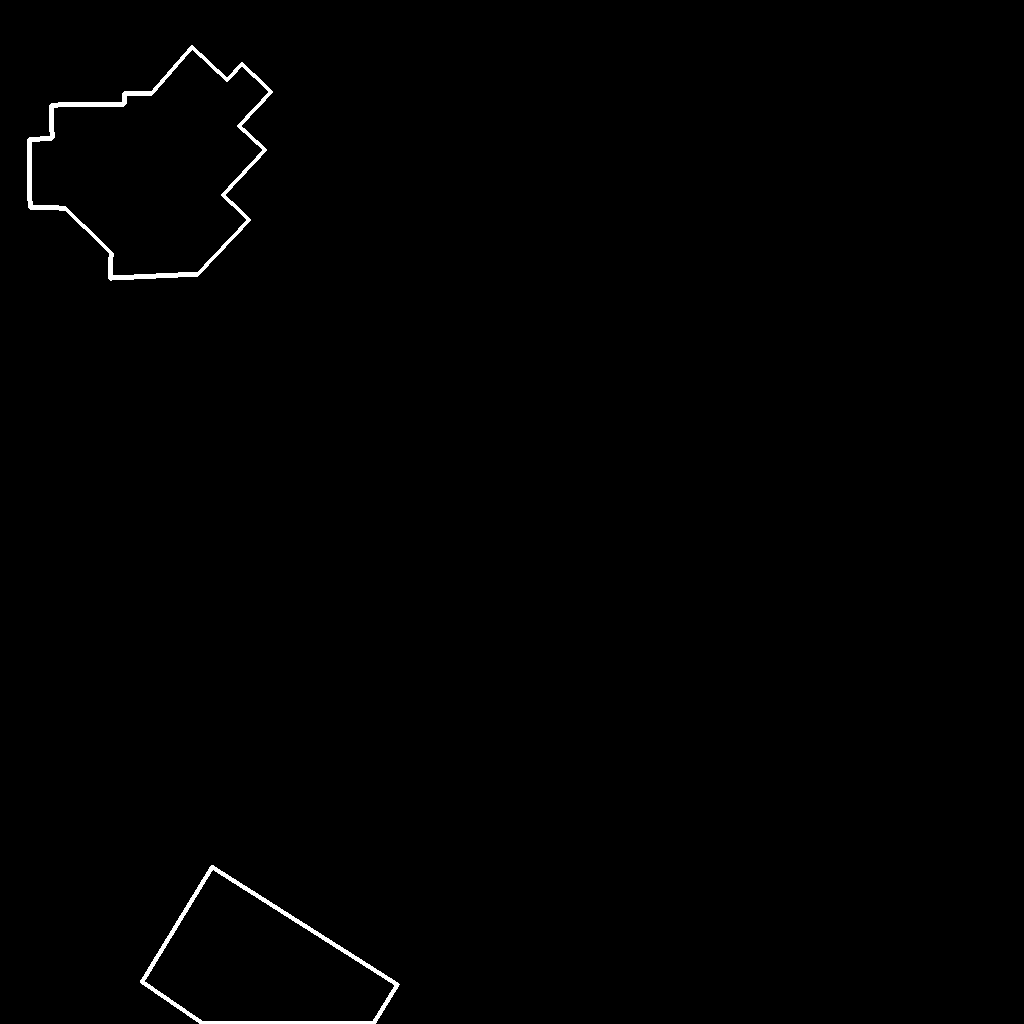building: (29, 47, 272, 279), (142, 867, 399, 1024)
